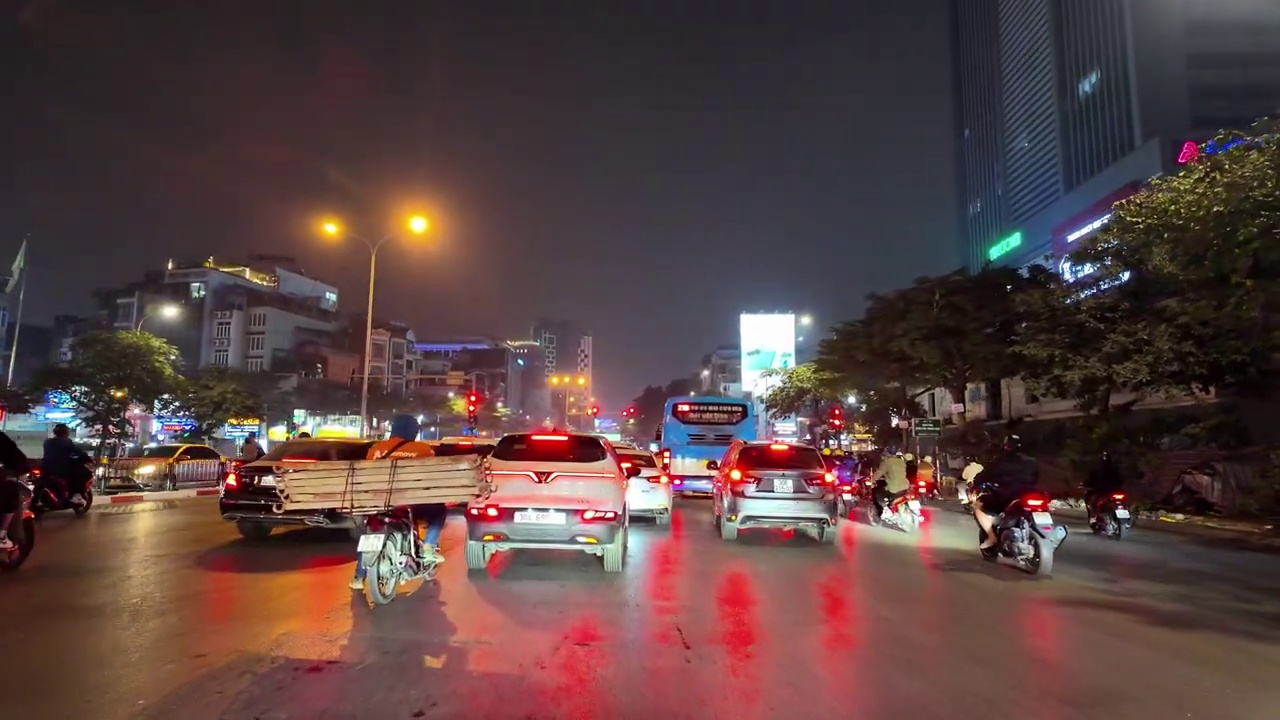acesa: (397, 205, 440, 247), (313, 214, 348, 246), (154, 299, 186, 327), (796, 311, 817, 333)
